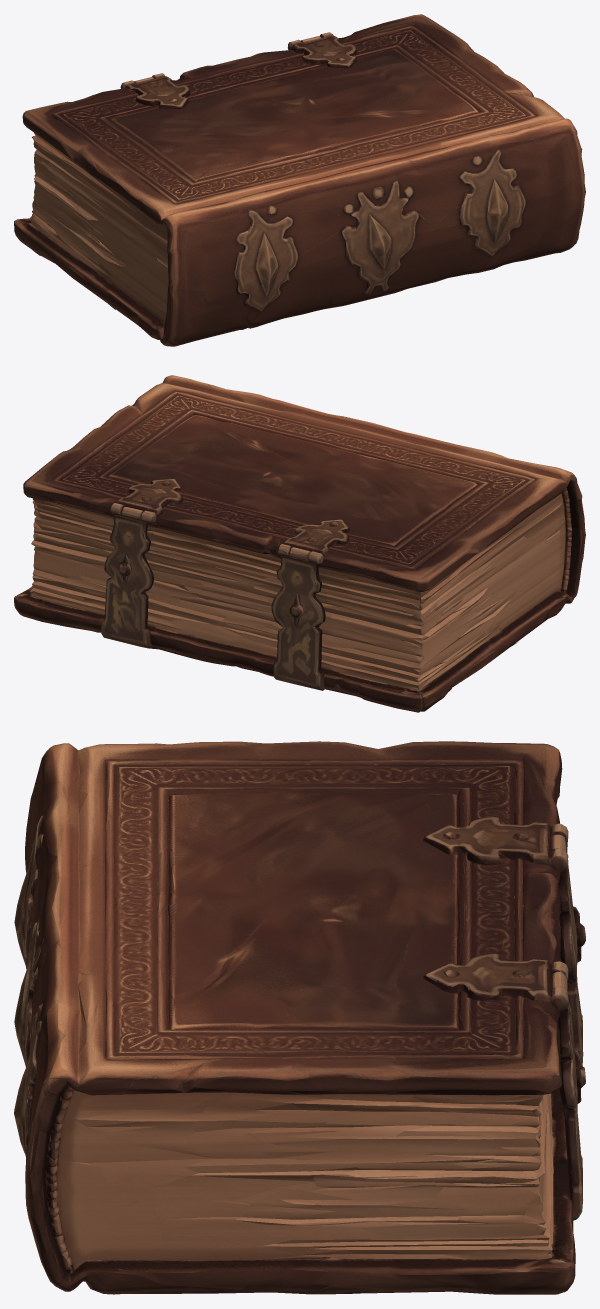
The model's file is prop-codex.glb.
The picture shows the model from 3 angles, top to bottom: view 1: azimuth 30°, elevation 25°; view 2: azimuth 150°, elevation 25°; view 3: azimuth 270°, elevation 25°; orthographic projection. The views are drawn at different scales.
Parts seen in each view (by area): view 1: mesh_node; view 2: mesh_node; view 3: mesh_node.
Part boxes in pixels (x1,y1,x2,y2): mesh_node: [14, 14, 585, 346]; mesh_node: [14, 375, 585, 712]; mesh_node: [14, 741, 585, 1294].
Size of the model in its own units: 1.9 by 0.6004 by 1.34.
1 material, 1 textured.
